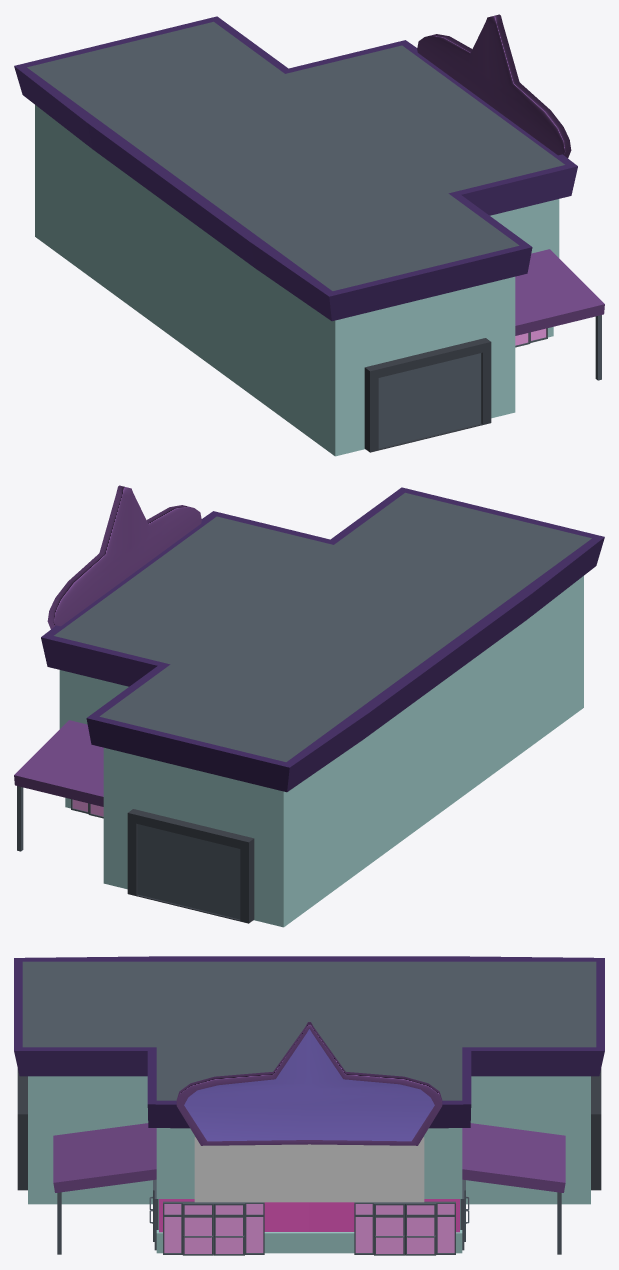
The model's file is evelmart exterior.fbx.
3 views of the same model, one above another, from view 1: azimuth 30°, elevation 25°; view 2: azimuth 150°, elevation 25°; view 3: azimuth 270°, elevation 25° (orthographic). The views are drawn at different scales.
Visible parts, largest first — view 1: Building, Garage, Sign, Cover; view 2: Building, Garage, Sign, Cover; view 3: Building, Sign, Face Plane, Cover, SlidingDoor, Garage, SlidingDoor.001, CoverPole.
Boxes of the visible parts, left/top/right/bottom form: Building: left=14, top=16, right=577, bottom=456; Garage: left=364, top=338, right=491, bottom=452; Sign: left=417, top=14, right=571, bottom=157; Cover: left=515, top=249, right=604, bottom=335; Building: left=41, top=487, right=604, bottom=927; Garage: left=127, top=809, right=254, bottom=923; Sign: left=47, top=485, right=201, bottom=628; Cover: left=14, top=720, right=103, bottom=806; Building: left=14, top=956, right=604, bottom=1253; Sign: left=176, top=1022, right=442, bottom=1145; Face Plane: left=194, top=1137, right=424, bottom=1202; Cover: left=53, top=1123, right=565, bottom=1192; SlidingDoor: left=163, top=1201, right=455, bottom=1255; Garage: left=17, top=1068, right=601, bottom=1190; SlidingDoor.001: left=153, top=1179, right=465, bottom=1250; CoverPole: left=57, top=1192, right=561, bottom=1254.
Bounding box in the file's own units: 6288 × 4669 × 10338.
